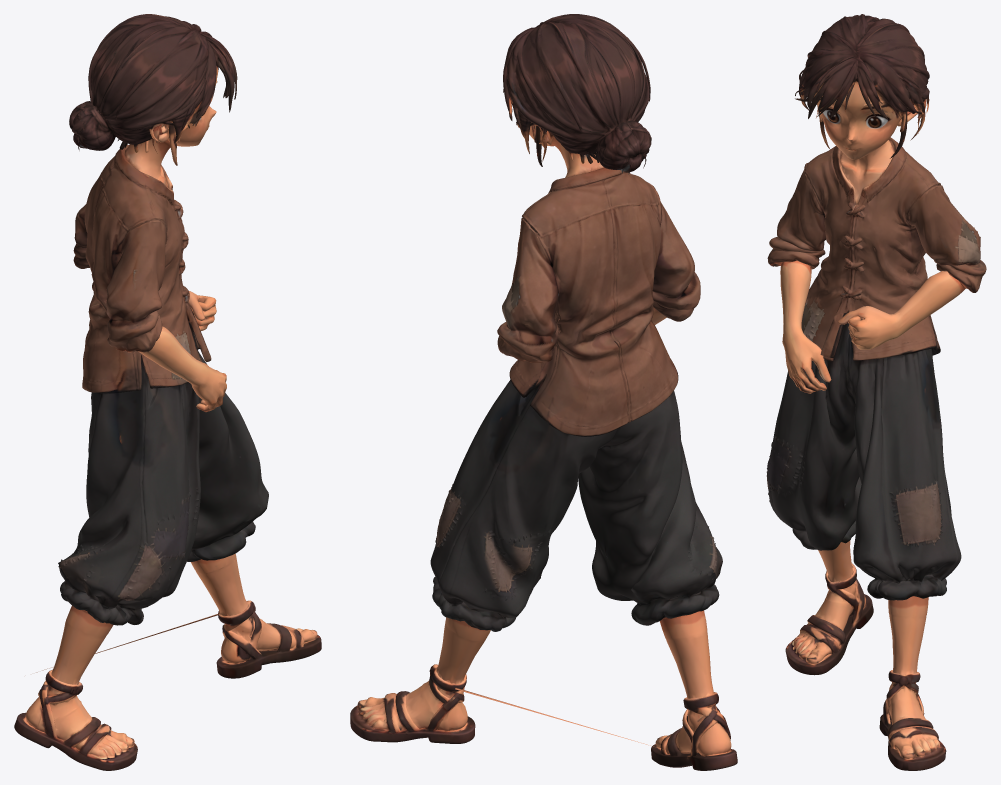
File: NPC2.fbx
3 renders of one model, left to right at view 1: azimuth 30°, elevation 25°; view 2: azimuth 150°, elevation 25°; view 3: azimuth 270°, elevation 25°, orthographic. The views are drawn at different scales.
Parts seen in each view (by area): view 1: tripo_node_29ded178; view 2: tripo_node_29ded178; view 3: tripo_node_29ded178.
Part boxes in pixels (left/top/right/bottom): tripo_node_29ded178: left=14, top=14, right=321, bottom=770; tripo_node_29ded178: left=350, top=14, right=737, bottom=770; tripo_node_29ded178: left=766, top=14, right=986, bottom=770.
Size of the model in its own units: 0.4795 by 0.9728 by 0.2861.
